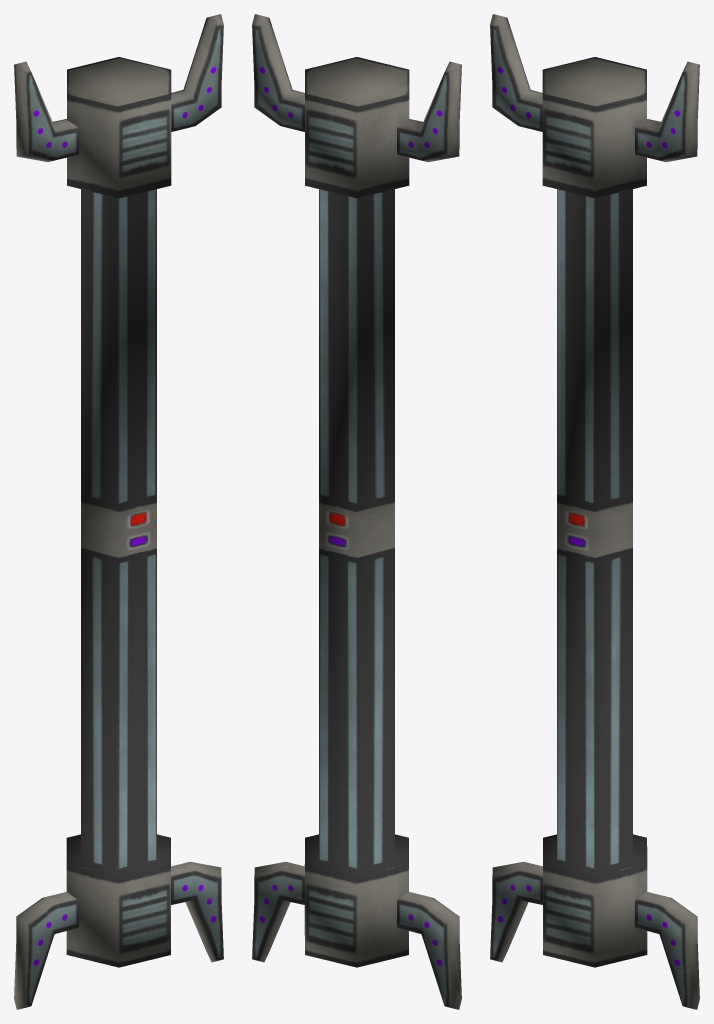
File: EnergySwordD02.fbx
The picture shows the model from 3 angles, left to right: view 1: azimuth 30°, elevation 25°; view 2: azimuth 150°, elevation 25°; view 3: azimuth 330°, elevation 25°; orthographic projection.
Visible parts, largest first — view 1: LightsaberD06; view 2: LightsaberD06; view 3: LightsaberD06.
Part boxes in pixels (x1,y1,x2,y2): LightsaberD06: (14, 14, 223, 1009); LightsaberD06: (252, 14, 461, 1009); LightsaberD06: (490, 14, 699, 1009).
Size of the model in its own units: 4.76 by 21.04 by 2.1.
